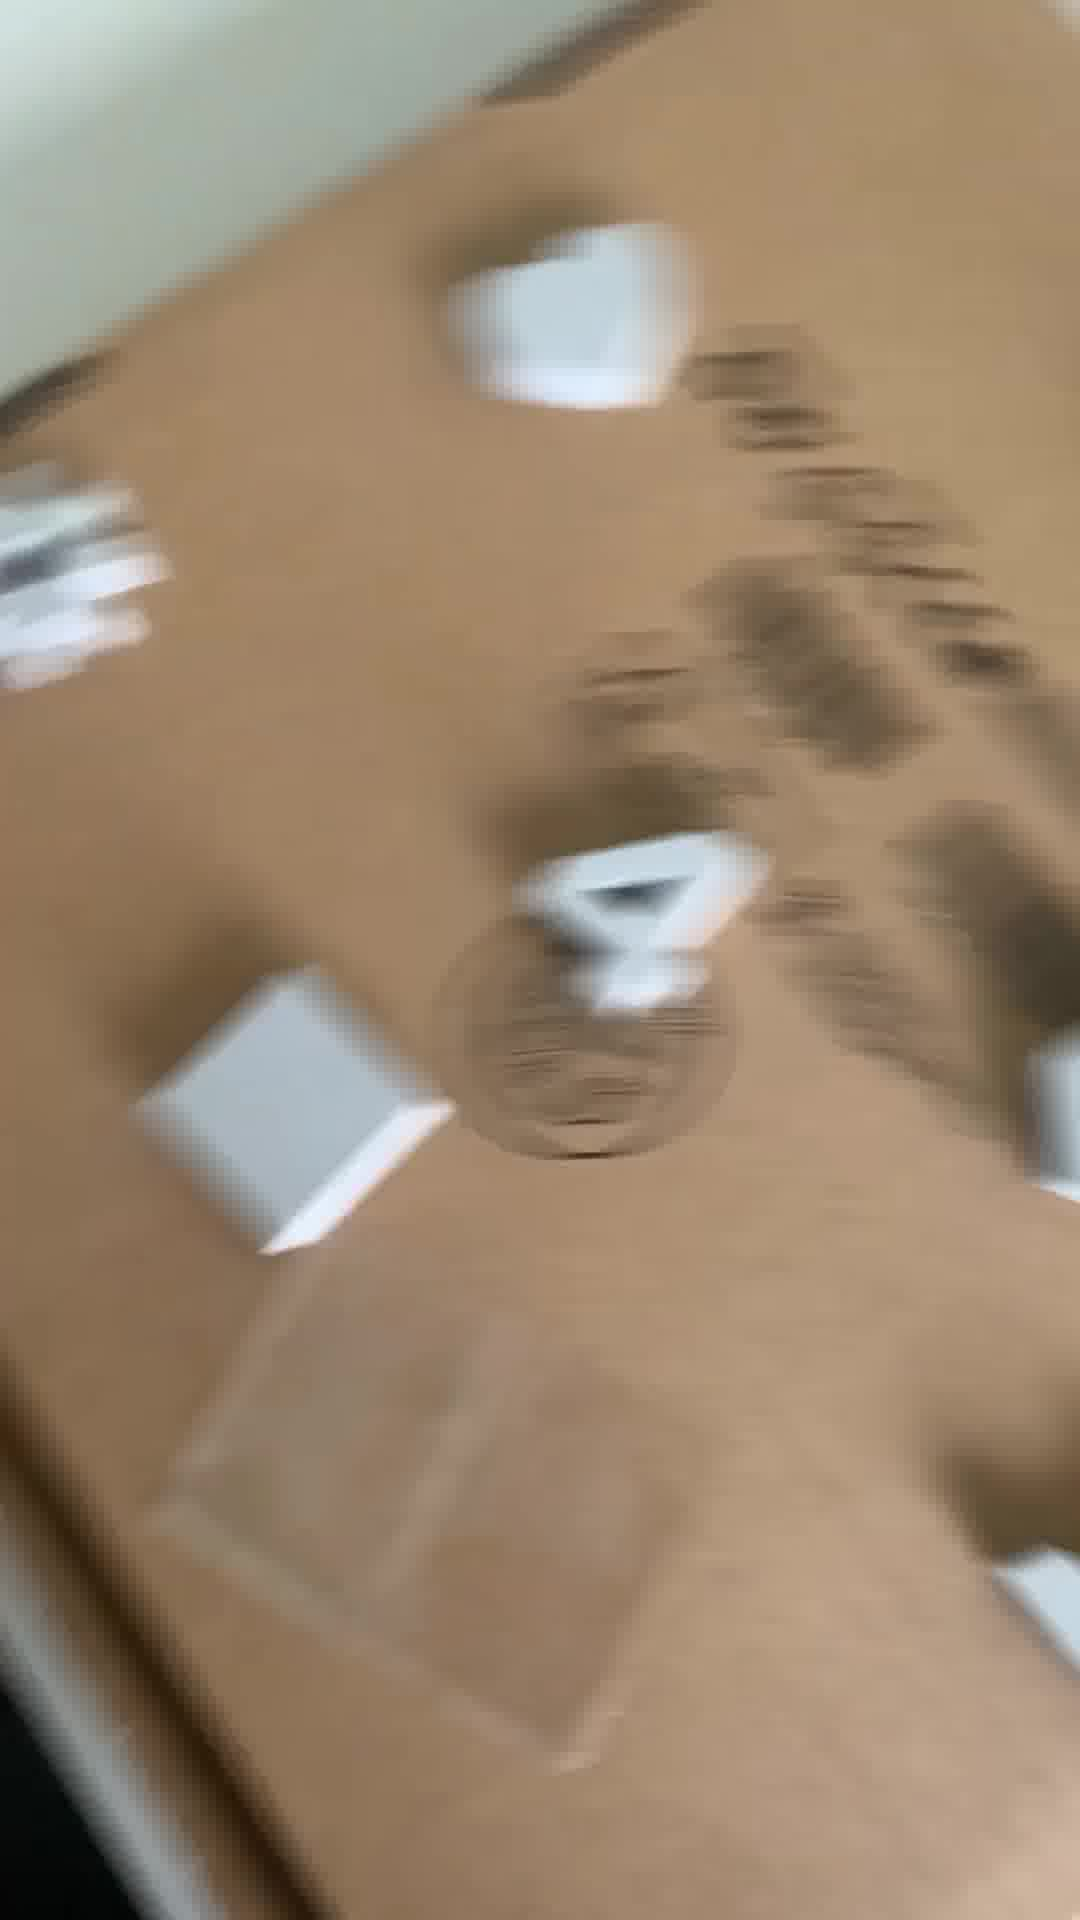Gray four: (512, 823, 769, 1035)
Gray heart: (454, 214, 692, 389)
Gray square: (102, 985, 455, 1284)
